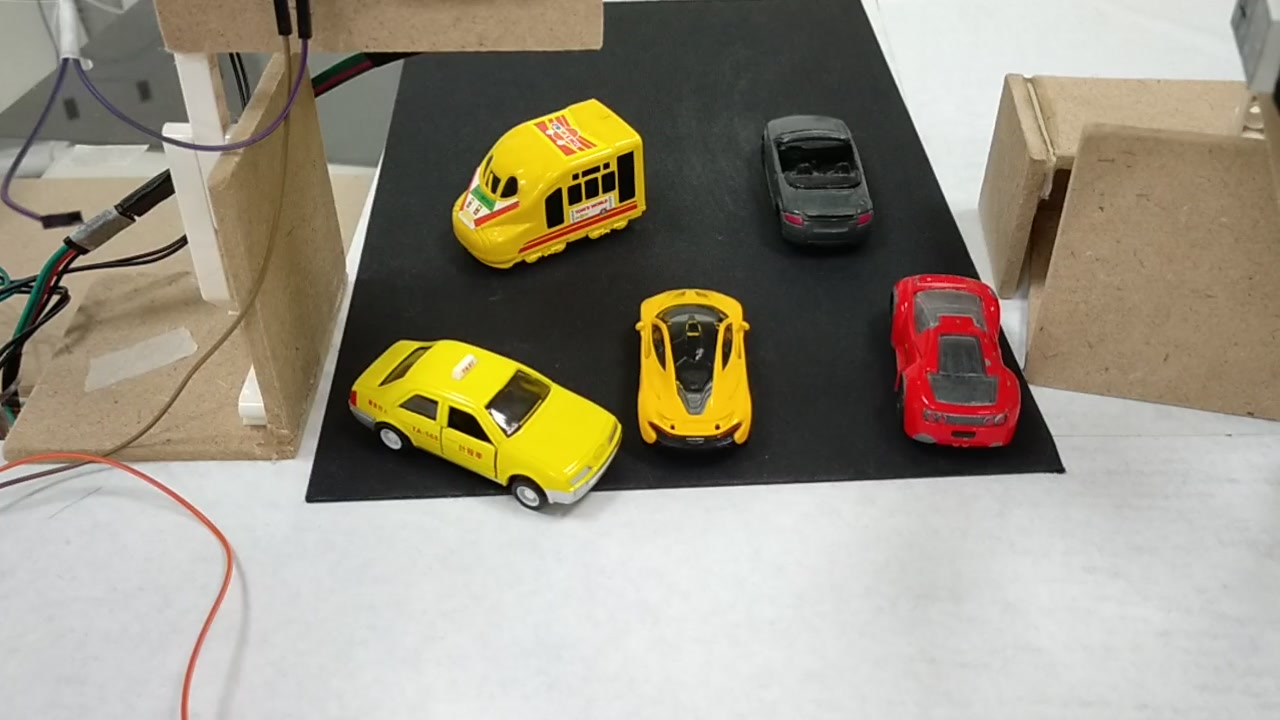car: (347, 339, 625, 524), (889, 271, 1018, 451), (633, 293, 755, 457), (762, 115, 875, 245)
